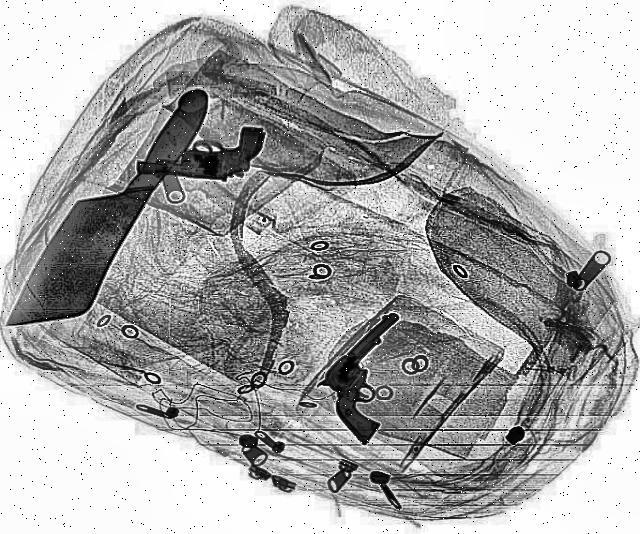Gun: (290, 308, 462, 444), (136, 122, 264, 182)
Knife: (0, 72, 222, 344)
